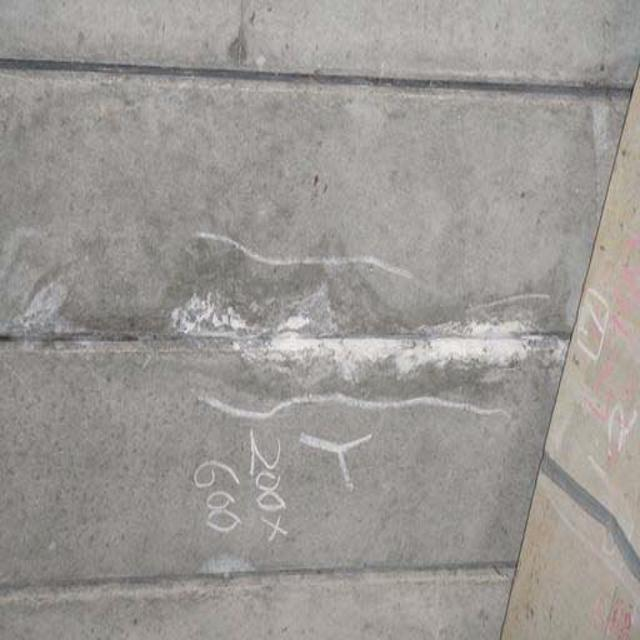freelime: (163, 287, 550, 394)
